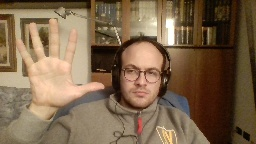Mano_aperta: (12, 16, 106, 107)
